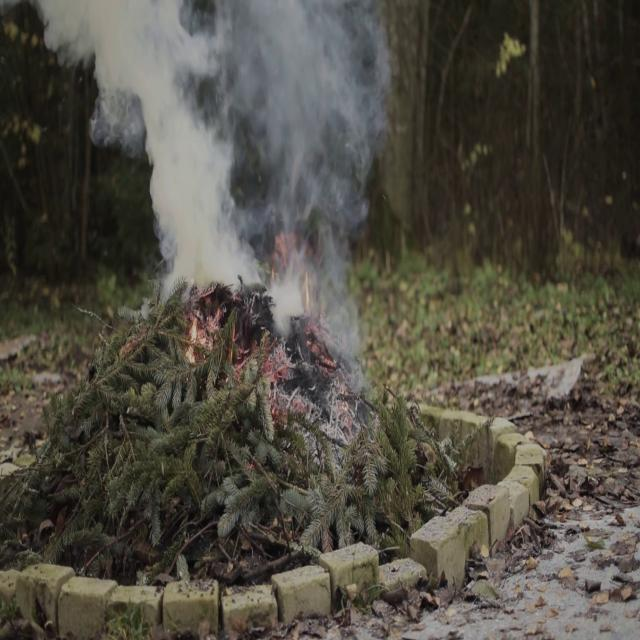Smoke: (257, 0, 414, 322), (82, 0, 259, 283)
